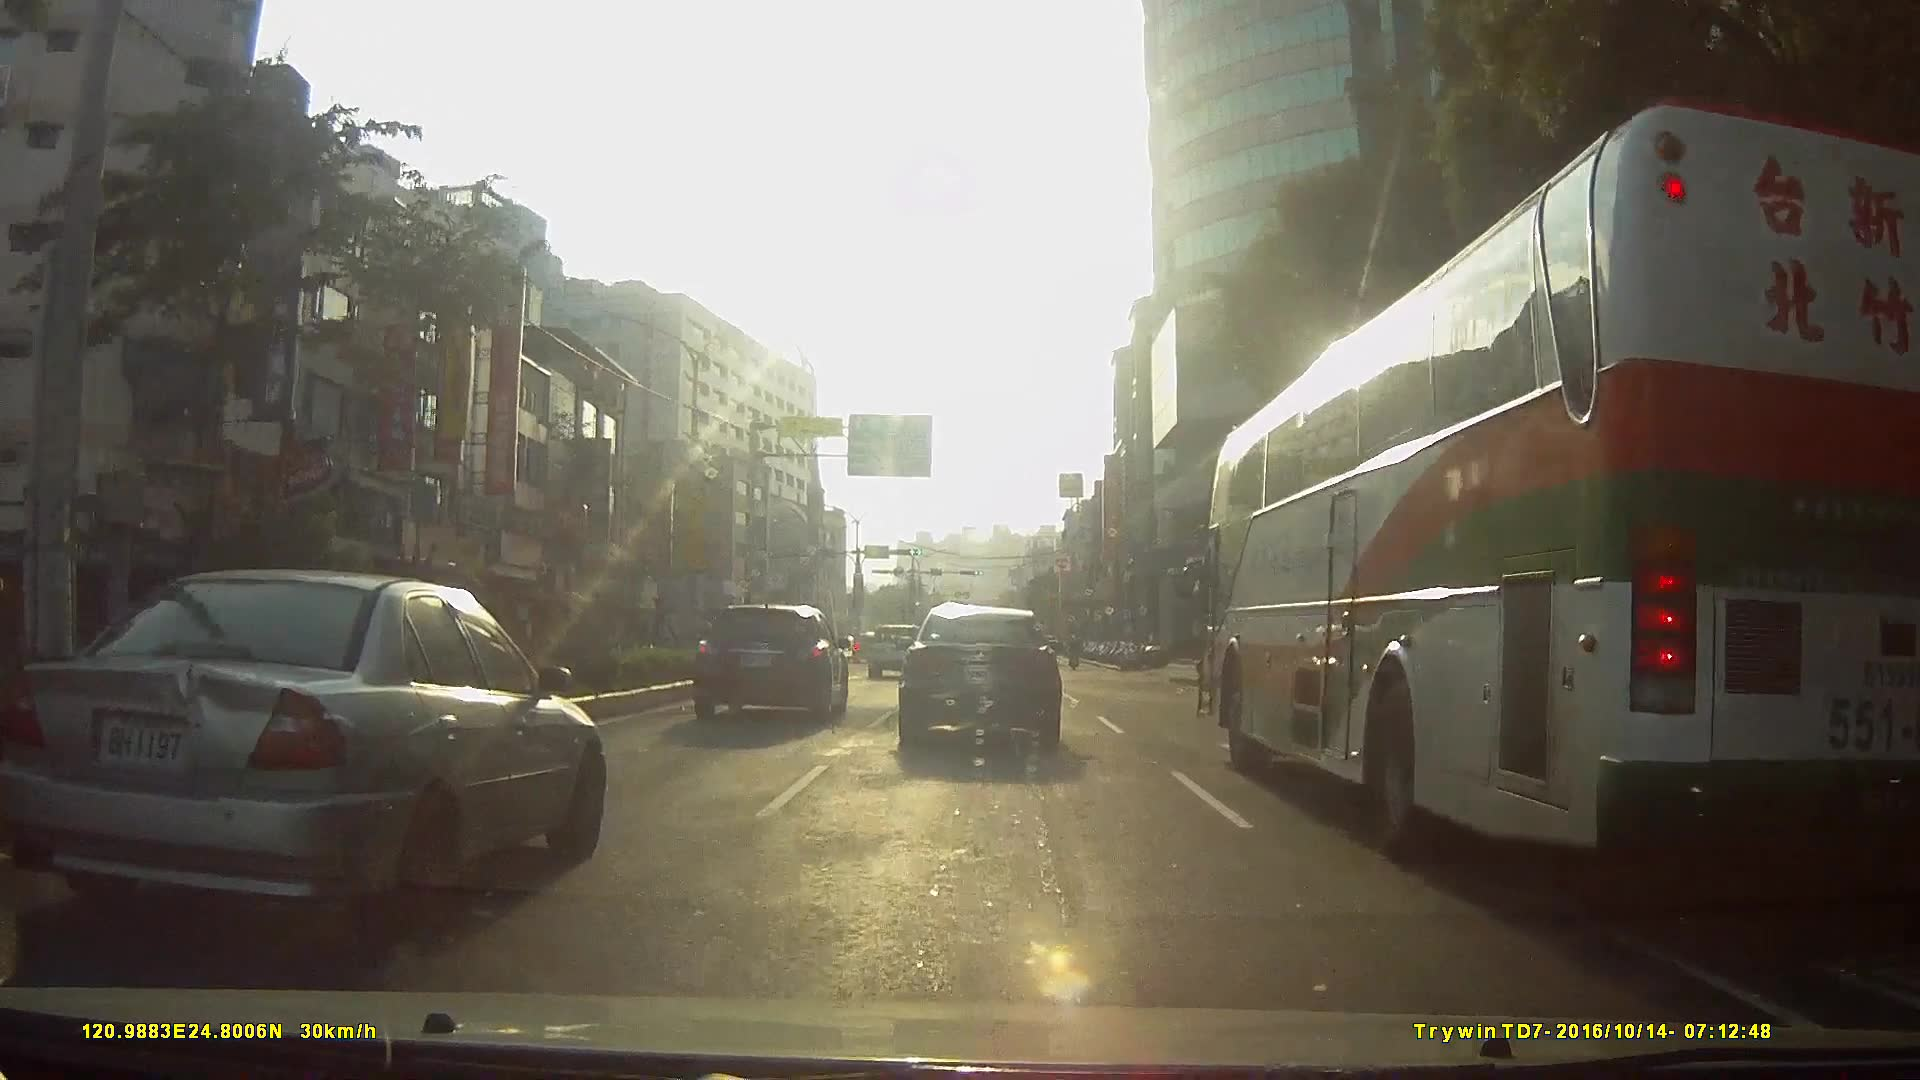vehicle: (1208, 29, 1913, 893), (0, 564, 603, 947), (894, 600, 1062, 752), (692, 601, 851, 719), (862, 622, 924, 680)
